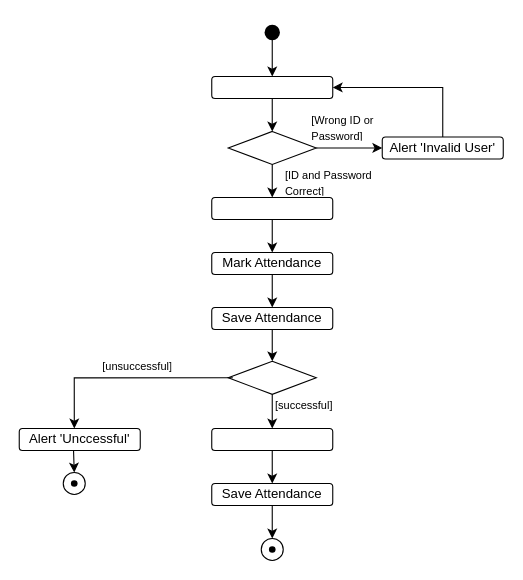
Some shapes in this 523 by 580 pixel diagram are drawn without their labels. The box of each missing label's shape, as (x1, y1, x2, y2) in pixels:
Alert 'Successful': (211, 427, 333, 450)
Login: (211, 75, 333, 98)
View Member: (211, 196, 333, 219)
